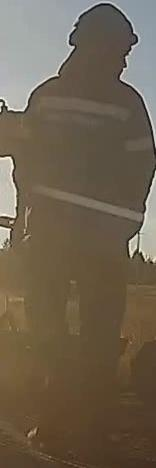vest: (19, 72, 149, 269)
